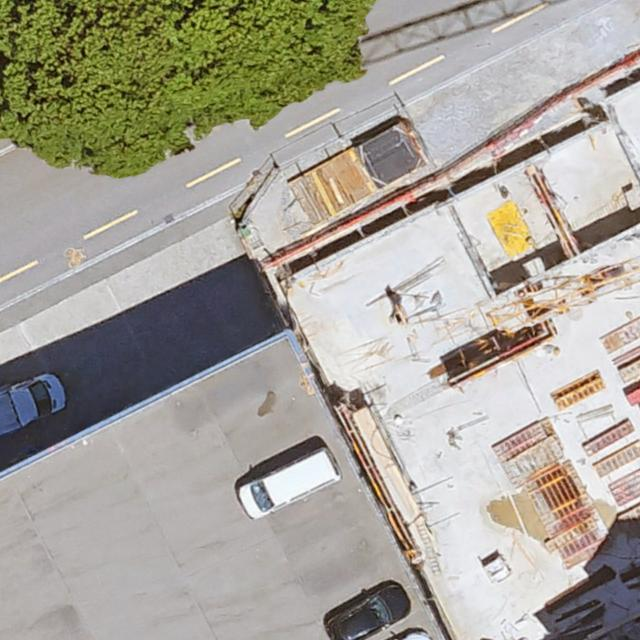tree: (0, 0, 365, 173)
